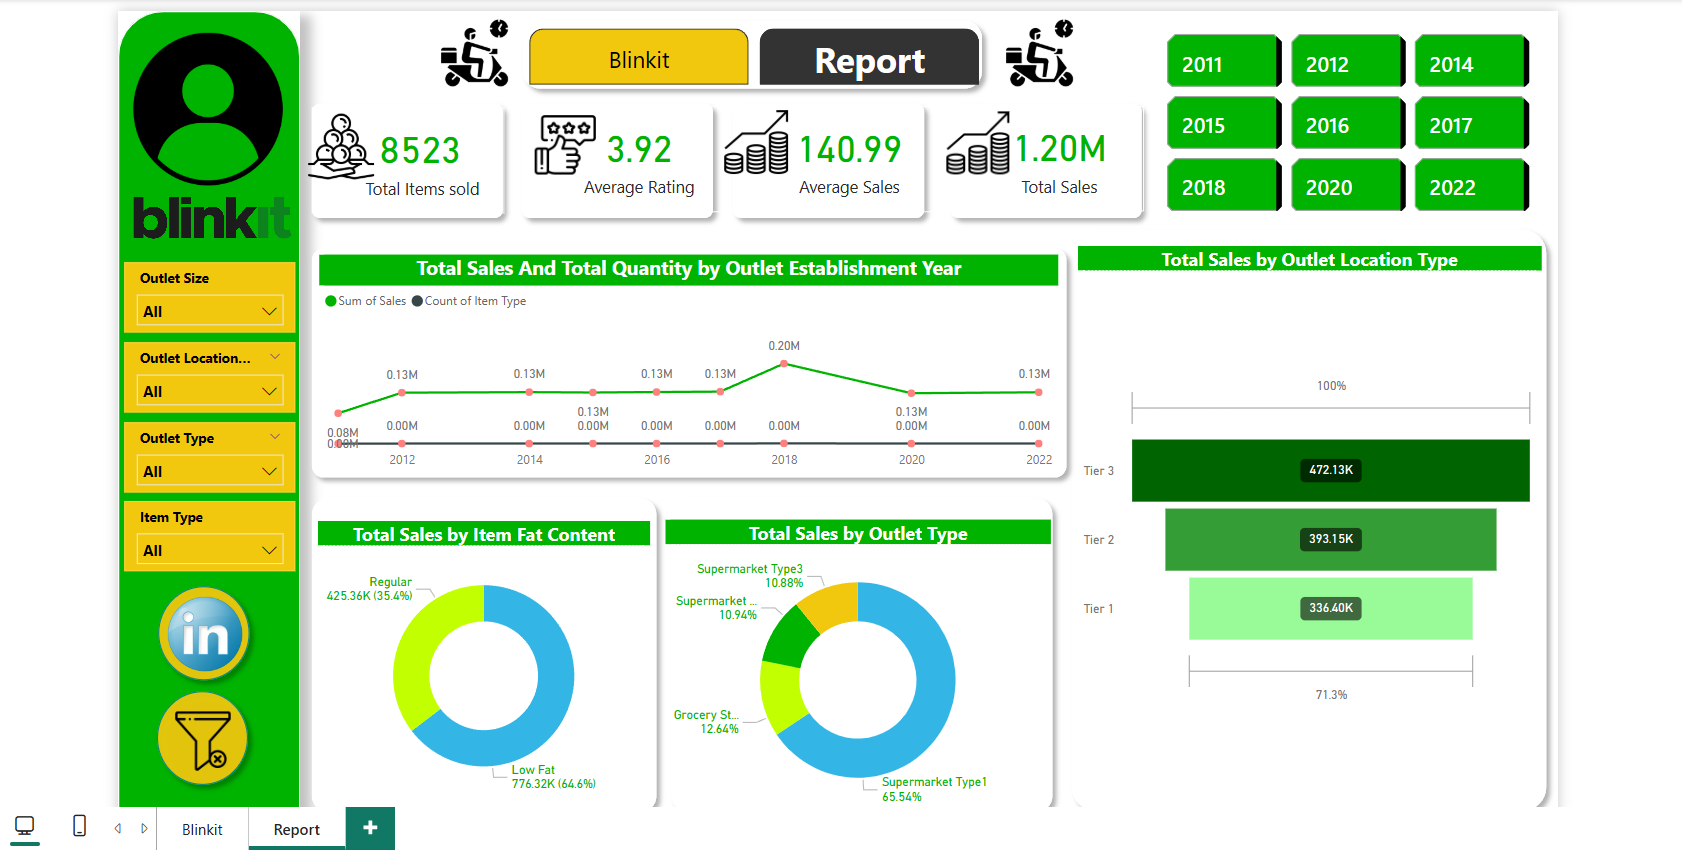

The page's visual inventory and layout, read from the dashboard file:
{"tool":"powerbi","page":{"name":"Report","canvas":[1280,720],"ordinal":1},"visuals":[{"type":"shape","box":[0,0,162,720.2],"z":0},{"type":"image","box":[171.1,0,290.8,76.5],"z":0,"group":"g5"},{"type":"shape","box":[349.2,73.7,187.8,119.7],"z":0,"group":"g2"},{"type":"slicer","fields":{"Values":["BlinkIT Grocery Data.Outlet Size"]},"box":[5.6,223,152.1,62.6],"z":0,"group":"g1"},{"type":"shape","box":[25.1,596,99,101.4],"z":500,"group":"g3"},{"type":"shape","box":[350.6,0,425.7,77.9],"z":1000,"group":"g5"},{"type":"advancedSlicerVisual","fields":{"Values":["BlinkIT Grocery Data.Outlet Establishment Year"]},"box":[928,15.3,333.9,169.7],"z":1000},{"type":"shape","box":[163.1,201.8,688.7,221.2],"z":1000,"group":"g4"},{"type":"slicer","fields":{"Values":["BlinkIT Grocery Data.Outlet Location Type"]},"box":[5.6,293.9,152.1,62.6],"z":1000,"group":"g1"},{"type":"shape","box":[25.9,502.6,99.4,101.8],"z":1000,"group":"g3"},{"type":"pageNavigator","box":[365.9,15.3,400.7,50.1],"z":2000,"group":"g5"},{"type":"group","id":"g1","title":"Group 2","box":[5.6,223,152.1,274.8],"z":2000},{"type":"slicer","fields":{"Values":["BlinkIT Grocery Data.Outlet Type"]},"box":[5.6,364.7,152.1,62.6],"z":2000,"group":"g1"},{"type":"image","box":[37.6,502.7,79.7,103.7],"z":2000,"group":"g3"},{"type":"image","box":[673.4,0,290.8,76.5],"z":3000,"group":"g5"},{"type":"shape","box":[839,185.7,439.7,534.3],"z":3000},{"type":"slicer","fields":{"Values":["BlinkIT Grocery Data.Item Type"]},"box":[5.6,435.6,152.1,62.6],"z":3000,"group":"g1"},{"type":"group","id":"g2","title":"Group 1","box":[162.8,73.7,755.5,119.7],"z":4000},{"type":"lineChart","title":"Total Sales And Total Quantity by Outlet Establishment Year","fields":{"Y":["Sum(BlinkIT Grocery Data.Sales)","CountNonNull(BlinkIT Grocery Data.Item Type)"],"Category":["BlinkIT Grocery Data.Outlet Establishment Year"]},"box":[178.4,215.7,656.7,199],"z":5000,"group":"g4"},{"type":"group","id":"g3","title":"Group 3","box":[25.1,502.6,100.2,194.8],"z":5000},{"type":"shape","box":[482.8,424.3,356.2,296.3],"z":6000},{"type":"image","box":[41,618.1,68.3,62.9],"z":6000,"group":"g3"},{"type":"shape","box":[162.8,424.3,324.2,296.3],"z":7000},{"type":"image","box":[140.5,84.9,116.9,72.3],"z":8000},{"type":"image","box":[720.7,84.9,86.3,66],"z":9000},{"type":"image","box":[524.5,83.5,86.3,66.8],"z":10000},{"type":"image","box":[5.6,154.4,157.2,58.4],"z":11000},{"type":"image","box":[365.9,87.7,64,62.6],"z":12000},{"type":"image","box":[4.2,9.7,151.7,154.4],"z":13000},{"type":"shape","box":[162.8,73.7,187.8,119.7],"z":15000,"group":"g2"},{"type":"funnel","title":"Total Sales by Outlet Location Type","fields":{"Y":["Sum(BlinkIT Grocery Data.Sales)"],"Category":["BlinkIT Grocery Data.Outlet Location Type"]},"box":[852.9,208.7,411.8,502.3],"z":15000},{"type":"shape","box":[537.1,73.7,187.8,119.7],"z":16000,"group":"g2"},{"type":"donutChart","title":"Total Sales by Item Fat Content","fields":{"Category":["BlinkIT Grocery Data.Item Fat Content"],"Y":["Sum(BlinkIT Grocery Data.Sales)"]},"box":[178.1,453.6,295,257.4],"z":16000},{"type":"shape","box":[730.5,73.7,187.8,119.7],"z":17000,"group":"g2"},{"type":"donutChart","title":"Total Sales by Outlet Type","fields":{"Y":["Sum(BlinkIT Grocery Data.Sales)"],"Category":["BlinkIT Grocery Data.Outlet Type"]},"box":[487,452.2,342.3,267.1],"z":17000},{"type":"card","fields":{"Values":["Avg(BlinkIT Grocery Data.Rating)"]},"box":[366.2,84.8,171.6,94.6],"z":17500,"group":"g2"},{"type":"card","fields":{"Values":["Avg(BlinkIT Grocery Data.Sales)"]},"box":[552.9,84.8,171.6,94.6],"z":18000,"group":"g2"},{"type":"group","id":"g4","title":"Group 5","box":[163.1,201.8,688.7,221.2],"z":18000},{"type":"group","id":"g5","title":"Group 8","box":[171.1,0,793,77.9],"z":18001},{"type":"card","fields":{"Values":["CountNonNull(BlinkIT Grocery Data.Item Type)"]},"box":[171.1,86.2,171.1,94.6],"z":18500,"group":"g2"},{"type":"card","title":"TOTAL SALES","fields":{"Values":["Sum(BlinkIT Grocery Data.Sales)"]},"box":[739.7,84.8,171.6,93.3],"z":19000,"group":"g2"}]}

Visuals, with their boxes on the page's 1280x720 design canvas (x1, y1, x2, y2). These are canvas units, not pixel positions in the 1682x850 screenshot, which may show the page scaled, cropped or inside an application window:
shape: Rect(0, 0, 162, 720)
image: Rect(171, 0, 462, 76)
shape: Rect(349, 74, 537, 193)
slicer - BlinkIT Grocery Data.Outlet Size: Rect(6, 223, 158, 286)
shape: Rect(25, 596, 124, 697)
shape: Rect(351, 0, 776, 78)
advancedSlicerVisual - BlinkIT Grocery Data.Outlet Establishment Year: Rect(928, 15, 1262, 185)
shape: Rect(163, 202, 852, 423)
slicer - BlinkIT Grocery Data.Outlet Location Type: Rect(6, 294, 158, 356)
shape: Rect(26, 503, 125, 604)
pageNavigator: Rect(366, 15, 767, 65)
"Group 2" group: Rect(6, 223, 158, 498)
slicer - BlinkIT Grocery Data.Outlet Type: Rect(6, 365, 158, 427)
image: Rect(38, 503, 117, 606)
image: Rect(673, 0, 964, 76)
shape: Rect(839, 186, 1279, 720)
slicer - BlinkIT Grocery Data.Item Type: Rect(6, 436, 158, 498)
"Group 1" group: Rect(163, 74, 918, 193)
"Total Sales And Total Quantity by Outlet Establishment Year" lineChart: Rect(178, 216, 835, 415)
"Group 3" group: Rect(25, 503, 125, 697)
shape: Rect(483, 424, 839, 721)
image: Rect(41, 618, 109, 681)
shape: Rect(163, 424, 487, 721)
image: Rect(140, 85, 257, 157)
image: Rect(721, 85, 807, 151)
image: Rect(524, 84, 611, 150)
image: Rect(6, 154, 163, 213)
image: Rect(366, 88, 430, 150)
image: Rect(4, 10, 156, 164)
shape: Rect(163, 74, 351, 193)
"Total Sales by Outlet Location Type" funnel: Rect(853, 209, 1265, 711)
shape: Rect(537, 74, 725, 193)
"Total Sales by Item Fat Content" donutChart: Rect(178, 454, 473, 711)
shape: Rect(730, 74, 918, 193)
"Total Sales by Outlet Type" donutChart: Rect(487, 452, 829, 719)
card - Avg(BlinkIT Grocery Data.Rating): Rect(366, 85, 538, 179)
card - Avg(BlinkIT Grocery Data.Sales): Rect(553, 85, 724, 179)
"Group 5" group: Rect(163, 202, 852, 423)
"Group 8" group: Rect(171, 0, 964, 78)
card - CountNonNull(BlinkIT Grocery Data.Item Type): Rect(171, 86, 342, 181)
"TOTAL SALES" card: Rect(740, 85, 911, 178)
